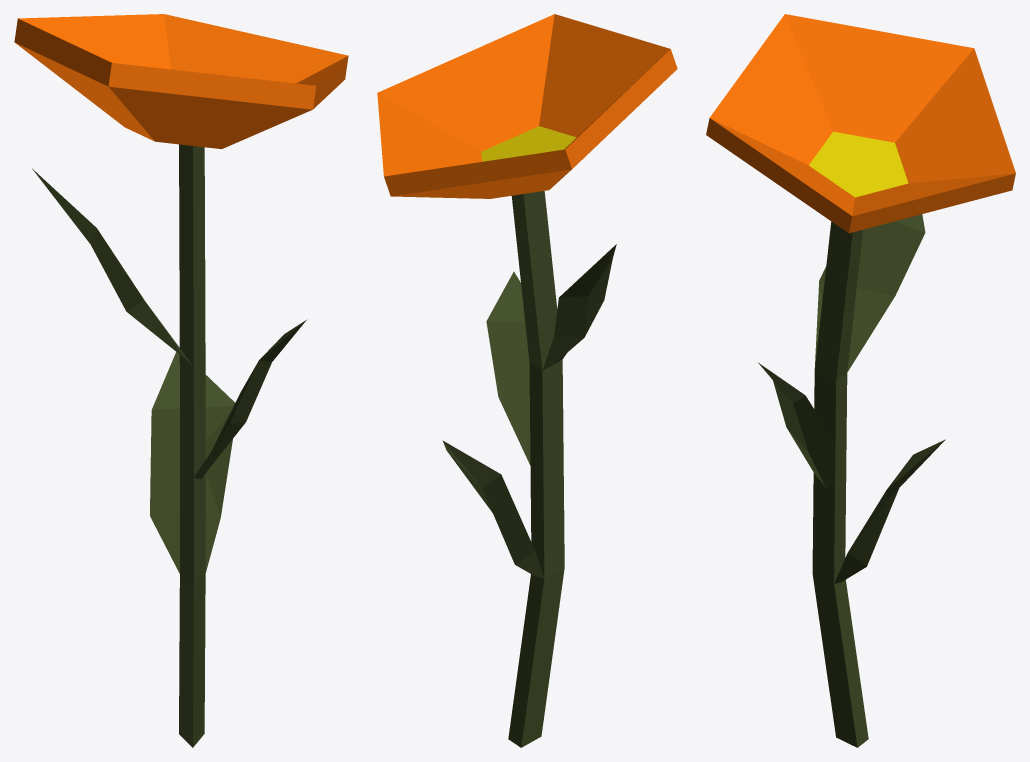
File: Kolendula для дропа fbx.fbx
3 views of the same model, side by side, from view 1: azimuth 30°, elevation 25°; view 2: azimuth 150°, elevation 25°; view 3: azimuth 270°, elevation 25° (orthographic). The views are drawn at different scales.
Visible parts, largest first — view 1: Cylinder.009; view 2: Cylinder.009; view 3: Cylinder.009.
Boxes of the visible parts, left/top/right/bottom form: Cylinder.009: left=14, top=14, right=348, bottom=747; Cylinder.009: left=377, top=14, right=677, bottom=747; Cylinder.009: left=706, top=14, right=1015, bottom=747.
Bounding box in the file's own units: 10.48 × 25.71 × 10.71.
